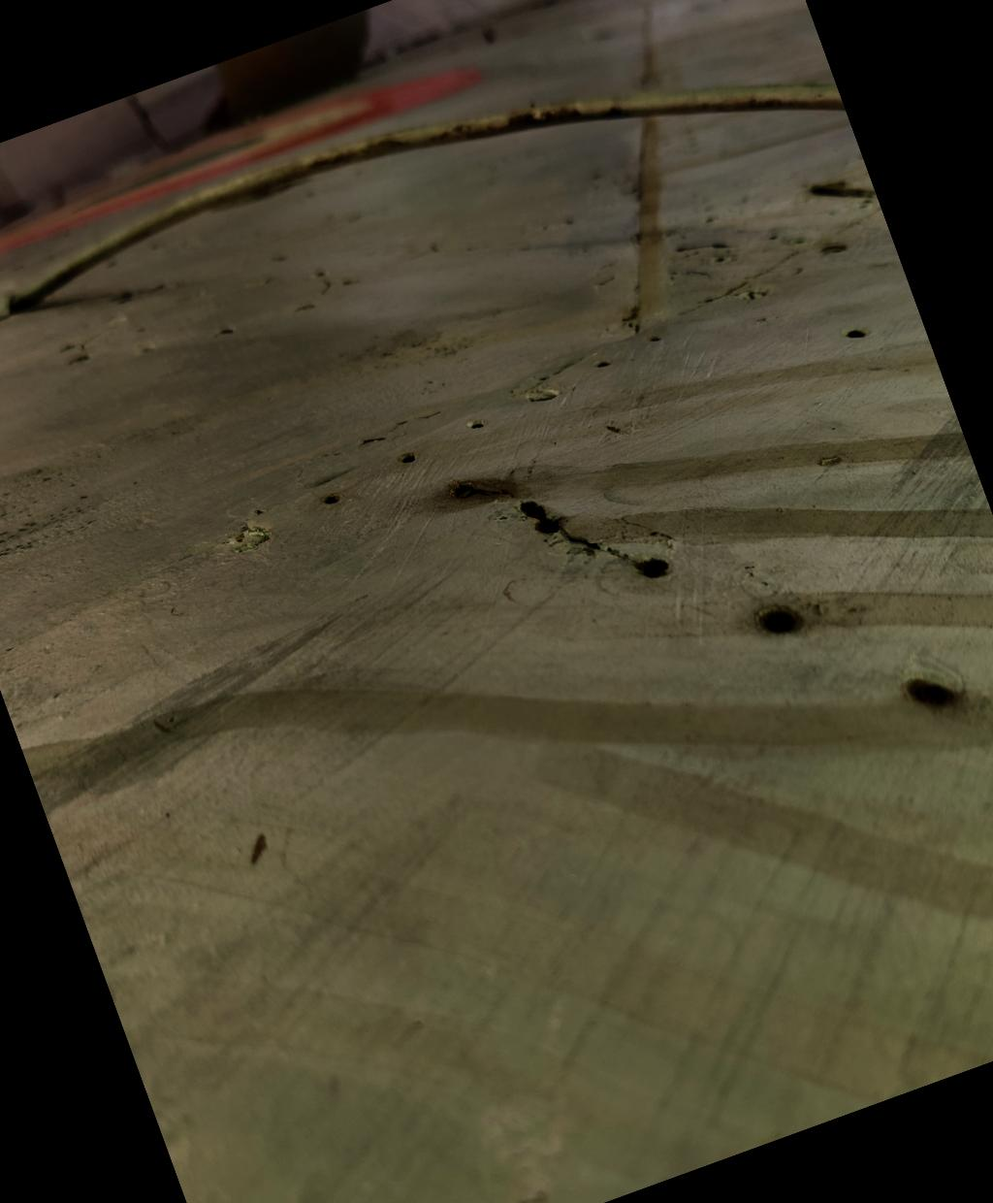crack: (426, 404, 690, 663)
